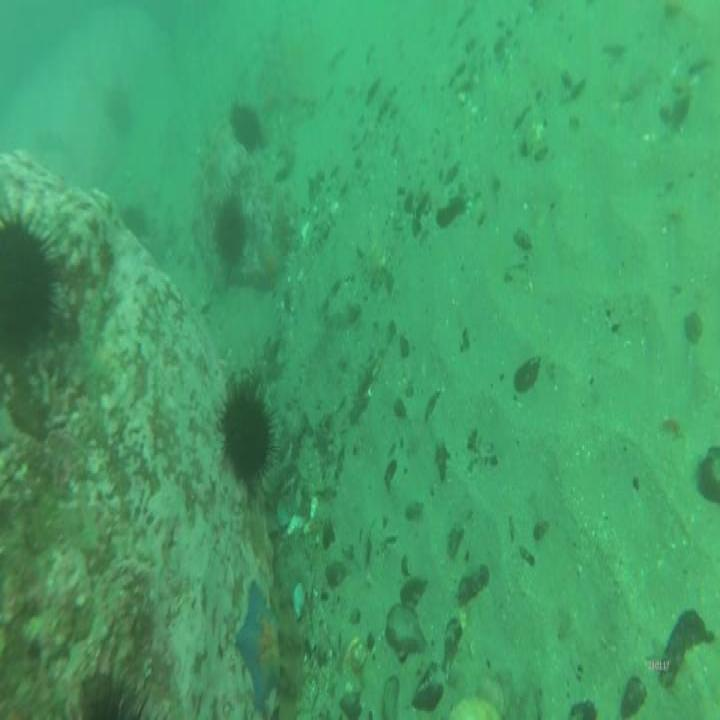echinus: (0, 222, 52, 356), (221, 389, 272, 480), (216, 197, 246, 267), (231, 103, 260, 151)
starfish: (234, 581, 282, 711), (258, 242, 286, 281)
